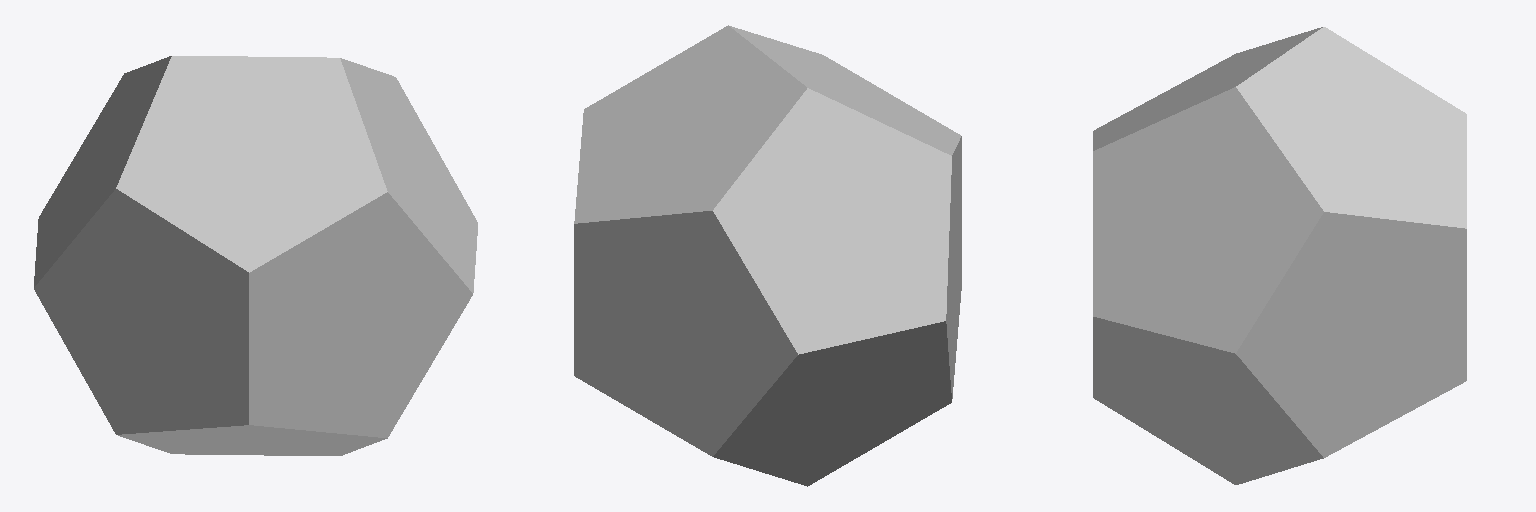
The model's file is sample1.obj.
3 views of the same model, side by side, from view 1: azimuth 30°, elevation 25°; view 2: azimuth 150°, elevation 25°; view 3: azimuth 270°, elevation 25° (orthographic).
Size of the model in its own units: 3.93 by 3.74 by 3.18.